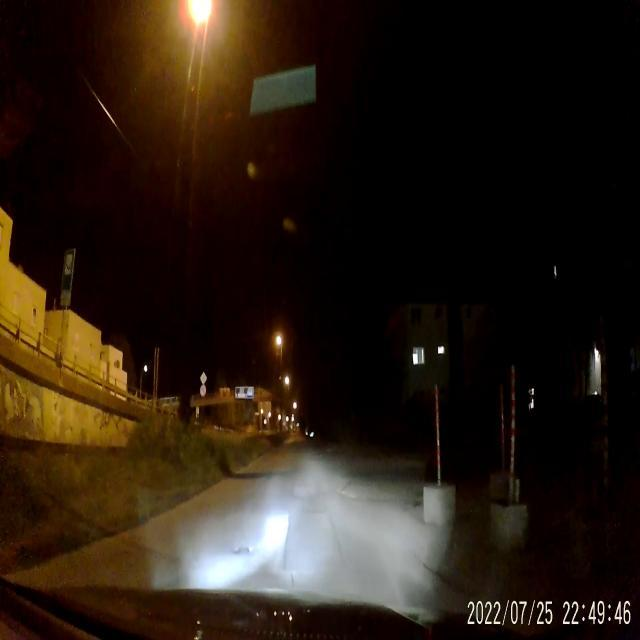Pothole: (233, 542, 254, 560)
